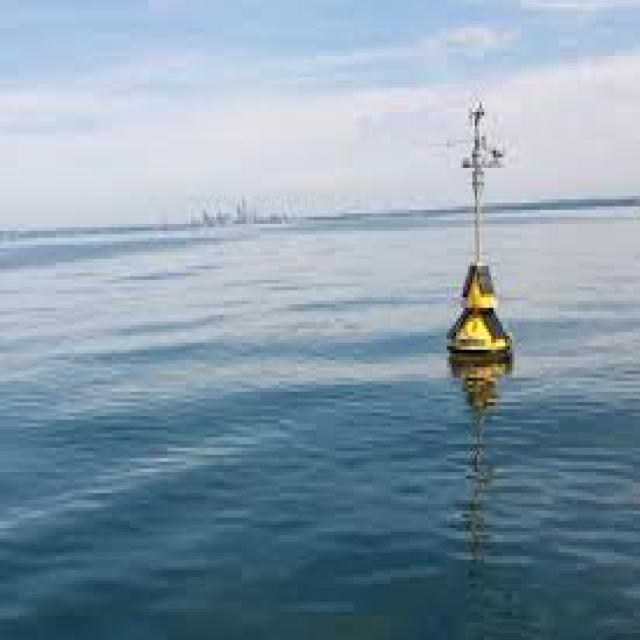2.4 safe water mark: (439, 76, 525, 392)
